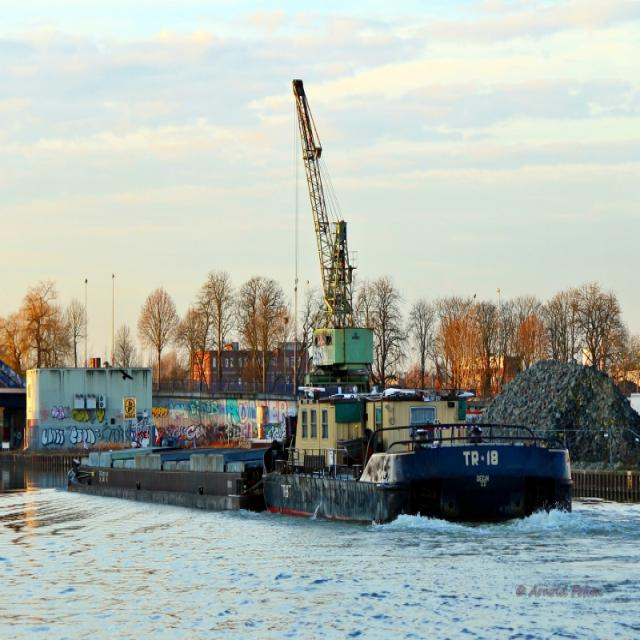tugboat: (251, 380, 578, 539)
